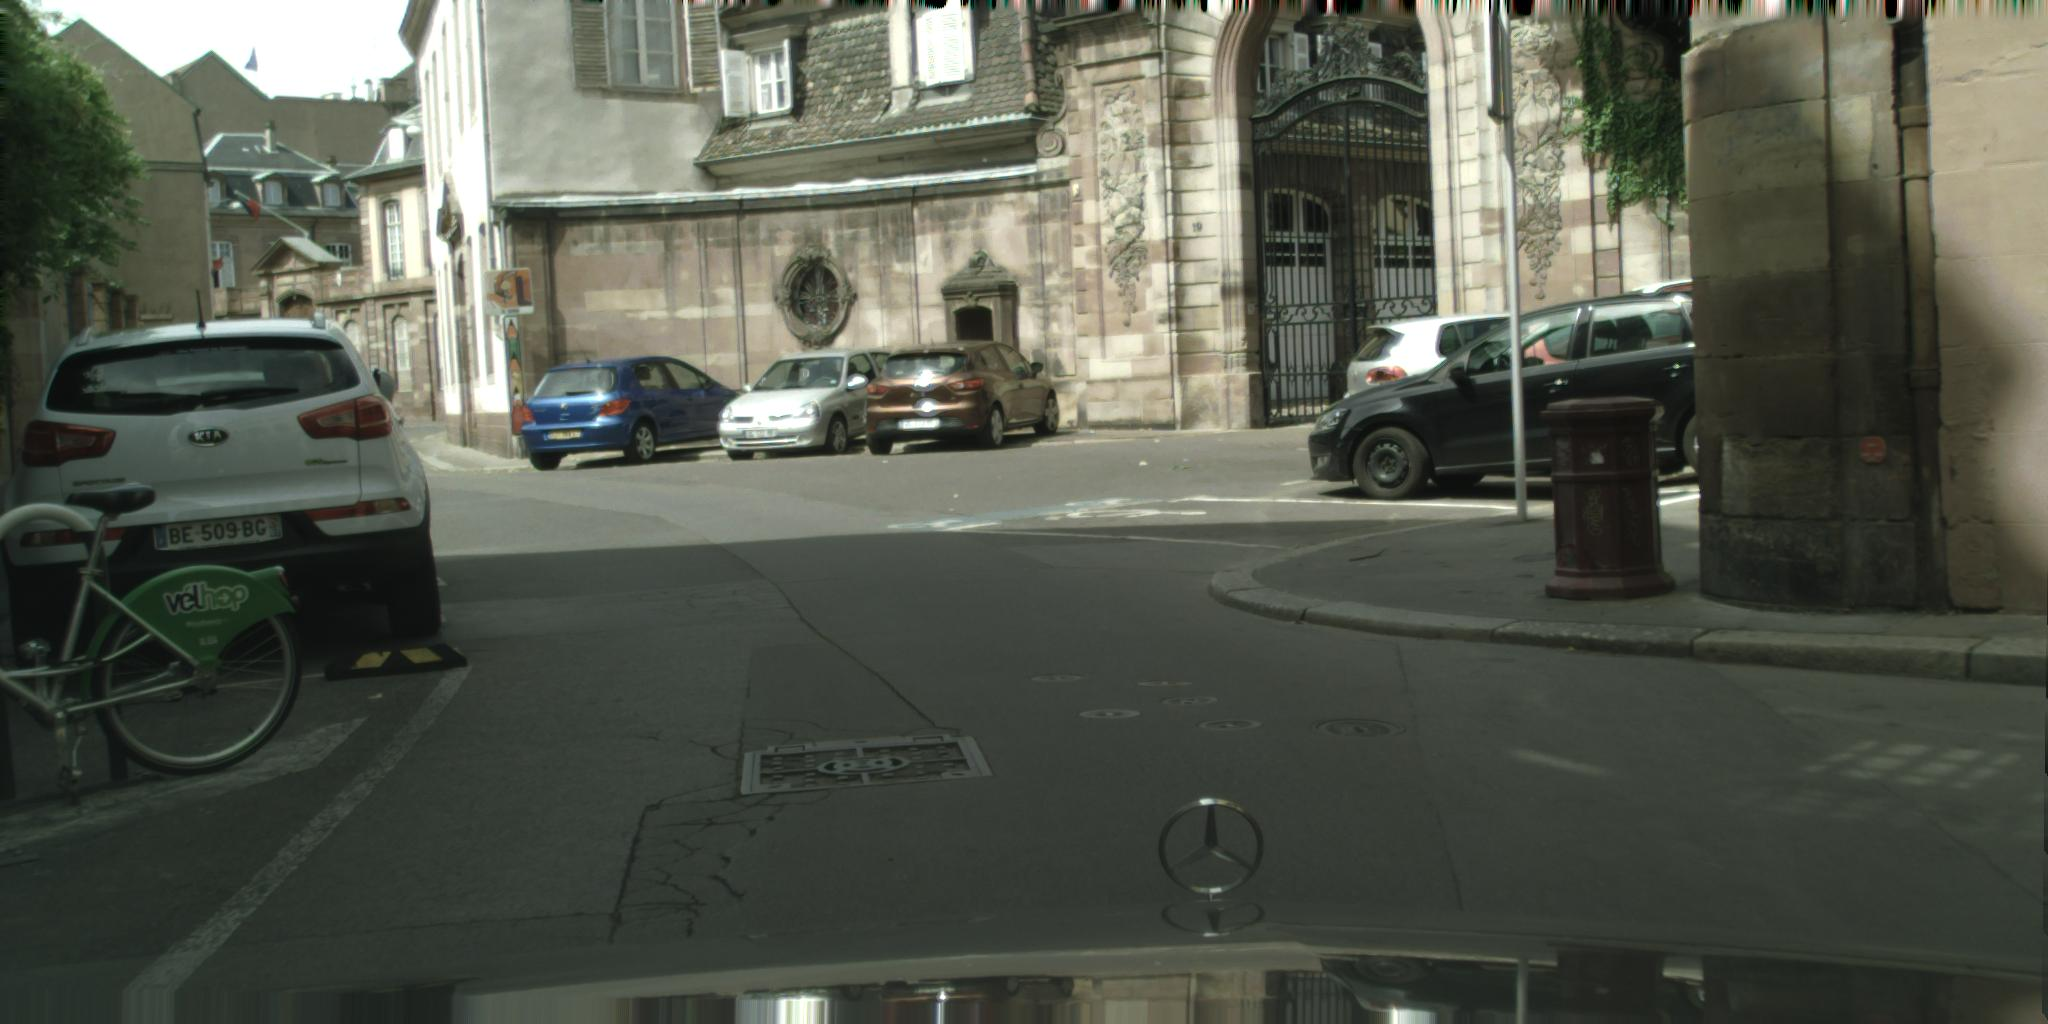bicycle: (1, 482, 304, 807)
car: (1, 313, 441, 680), (1307, 291, 1699, 502), (522, 357, 746, 472), (1344, 311, 1586, 406), (866, 341, 1061, 456), (717, 349, 906, 461), (1627, 277, 1693, 307)
